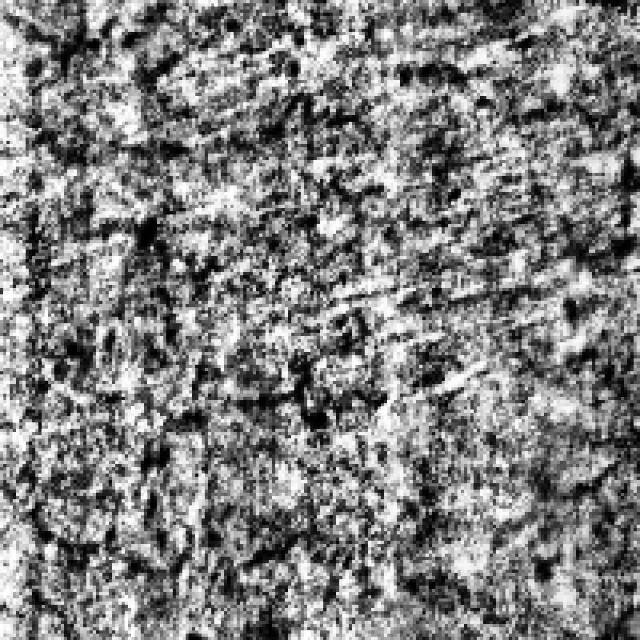Pitted_Surface: (10, 6, 592, 160), (0, 364, 330, 586), (515, 150, 637, 592)
